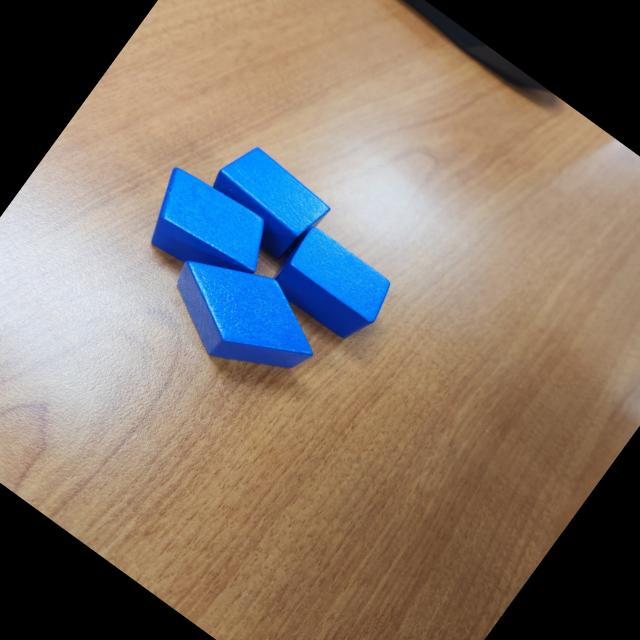blue: (148, 229, 338, 406), (127, 156, 284, 304), (195, 136, 337, 270), (262, 220, 400, 350)
